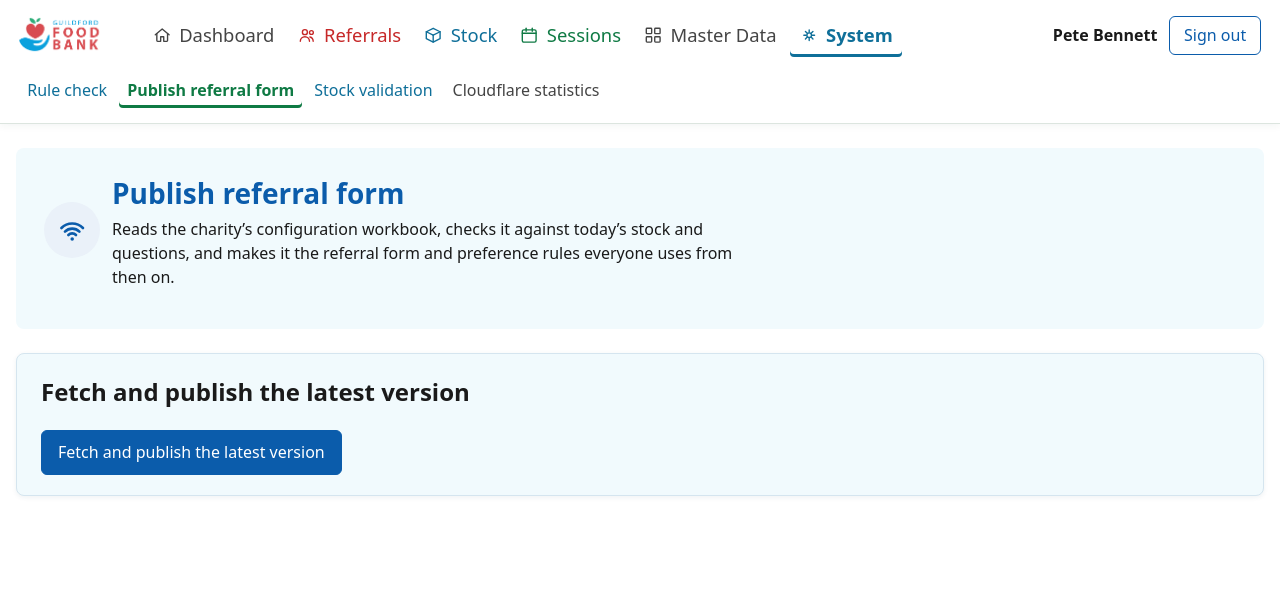
Test: publish referral form › says publishing is not configured rather than starting a flow that cannot finish
Click the button "Fetch and publish the latest version": (191, 452) [41,430,342,475]
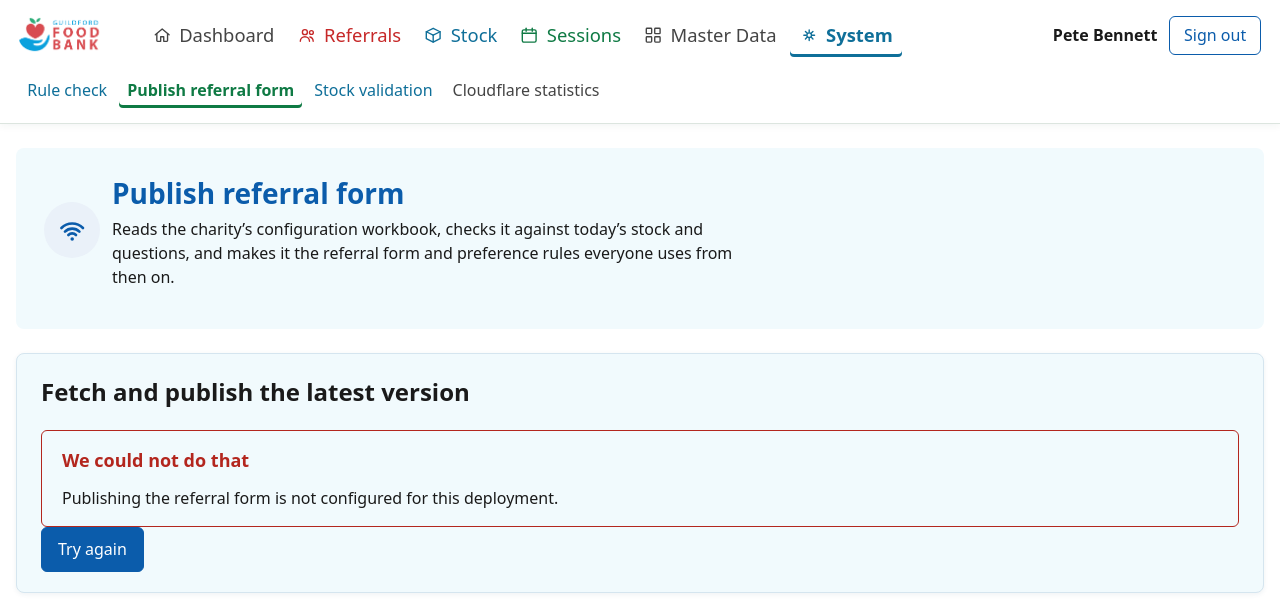
Expected: the text "not configured for this deployment" is shown, [62,487,558,509]
